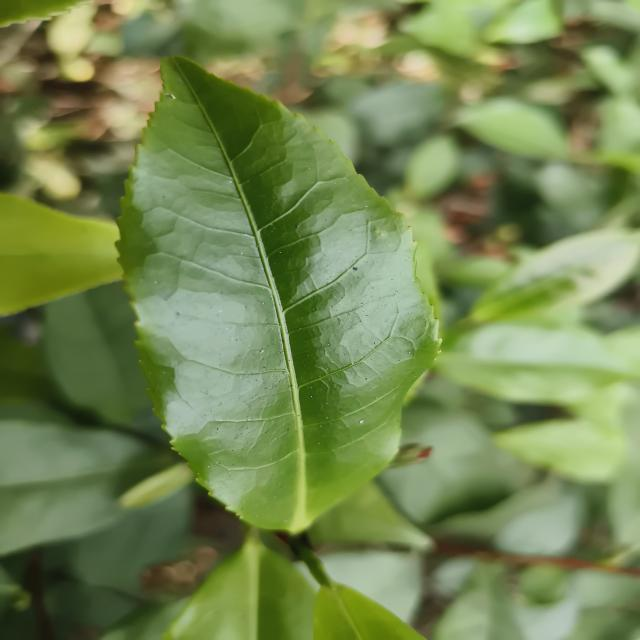Leaf: (119, 57, 438, 533), (0, 419, 168, 556), (43, 282, 168, 441), (163, 535, 315, 640), (435, 323, 627, 405), (471, 229, 640, 322), (0, 192, 122, 316), (493, 419, 625, 483), (458, 98, 568, 158), (314, 583, 420, 640), (350, 83, 444, 146)
